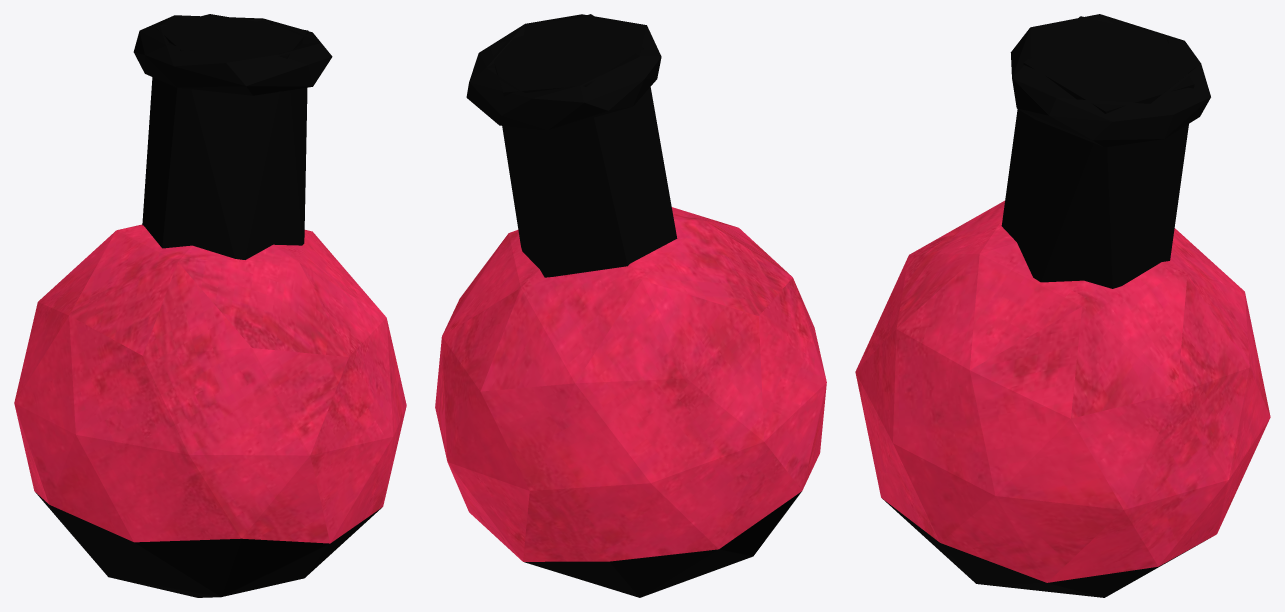
File: potion.glb
3 renders of one model, left to right at view 1: azimuth 30°, elevation 25°; view 2: azimuth 150°, elevation 25°; view 3: azimuth 270°, elevation 25°, orthographic. The views are drawn at different scales.
Parts seen in each view (by area): view 1: Torus; view 2: Torus; view 3: Torus.
Boxes of the visible parts, x1,y1,x2,y2 form: Torus: (14,14,406,597); Torus: (435,14,826,597); Torus: (855,14,1270,597).
Bounding box in the file's own units: 0.2471 × 0.3808 × 0.2587.
2 materials, 1 textured.
